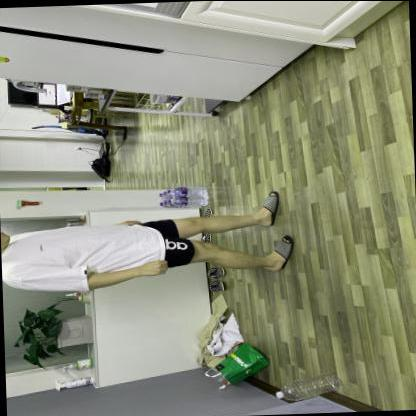no_safety-shoe: (253, 187, 285, 232), (263, 233, 294, 276)
